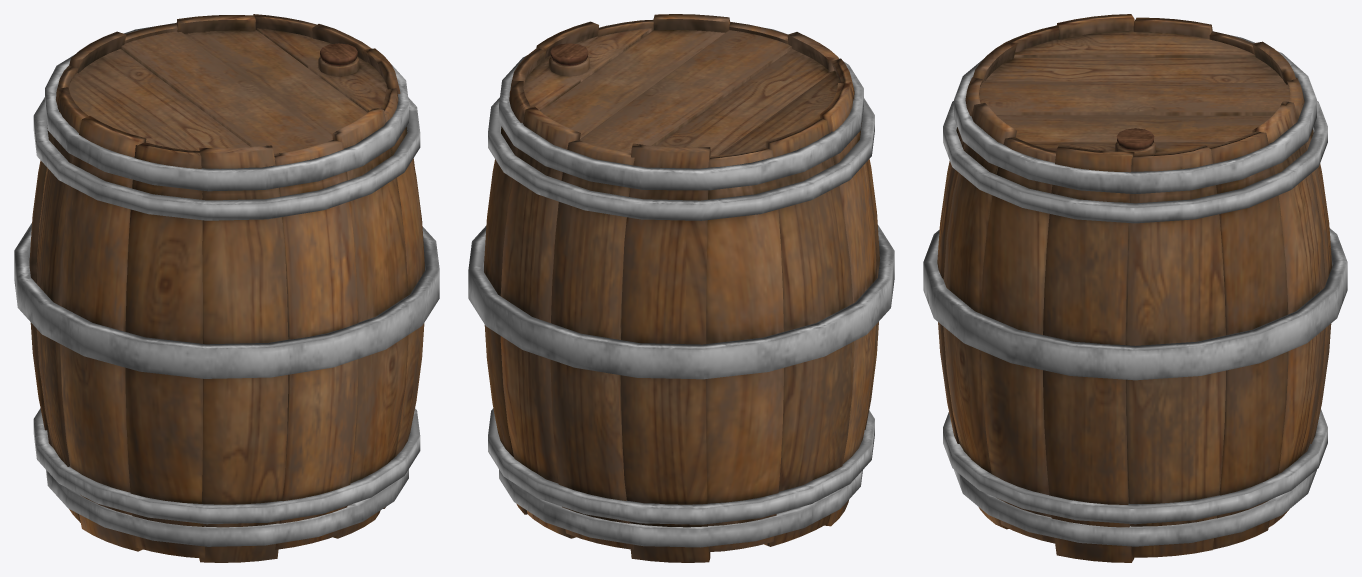
The picture shows the model from 3 angles, left to right: view 1: azimuth 30°, elevation 25°; view 2: azimuth 150°, elevation 25°; view 3: azimuth 270°, elevation 25°; orthographic projection.
Visible parts, largest first — view 1: Barrel; view 2: Barrel; view 3: Barrel.
Part boxes in pixels (x1=…): Barrel: x1=14, y1=14, x2=439, y2=562; Barrel: x1=468, y1=14, x2=894, y2=562; Barrel: x1=923, y1=14, x2=1347, y2=562.
Size of the model in its own units: 0.3289 by 0.3509 by 0.3289.
1 material, 1 textured.
